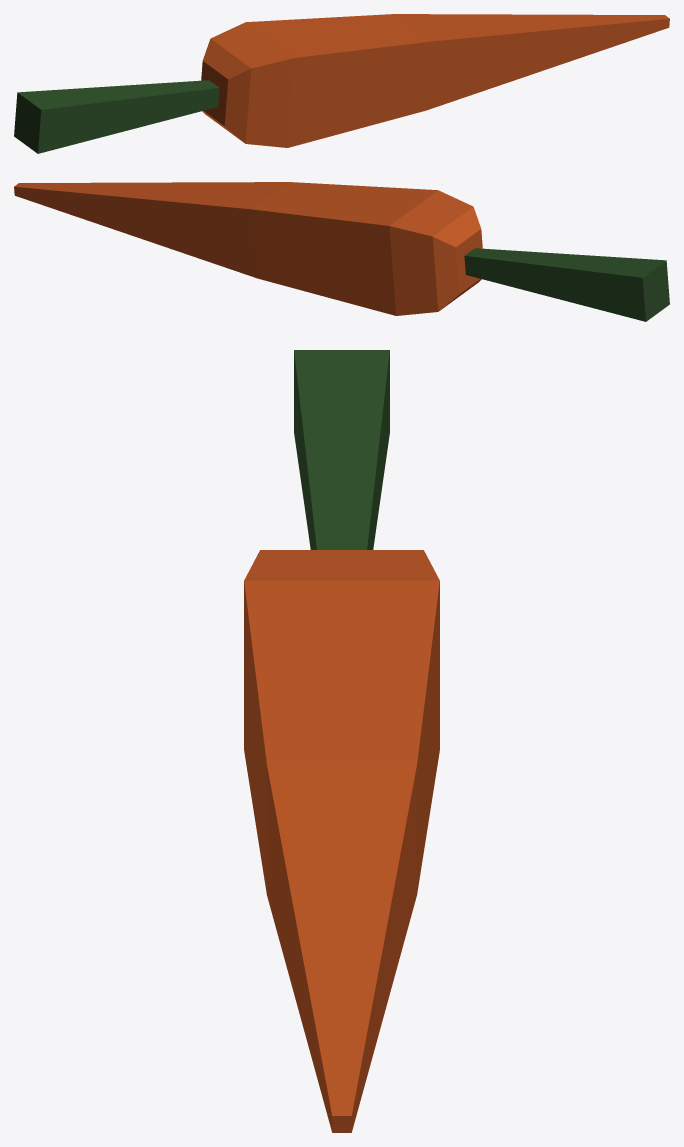
Rendered from carrotWithStem.fbx.
The picture shows the model from 3 angles, top to bottom: view 1: azimuth 30°, elevation 25°; view 2: azimuth 150°, elevation 25°; view 3: azimuth 270°, elevation 25°; orthographic projection. The views are drawn at different scales.
Parts seen in each view (by area): view 1: carrotWithStem; view 2: carrotWithStem; view 3: carrotWithStem.
Part boxes in pixels (left/top/right/bottom): carrotWithStem: left=14, top=14, right=669, bottom=153; carrotWithStem: left=14, top=182, right=669, bottom=321; carrotWithStem: left=244, top=350, right=439, bottom=1132.
Bounding box in the file's own units: 39.68 × 5.34 × 5.24.
Materials: 1 (1 with a texture image).
